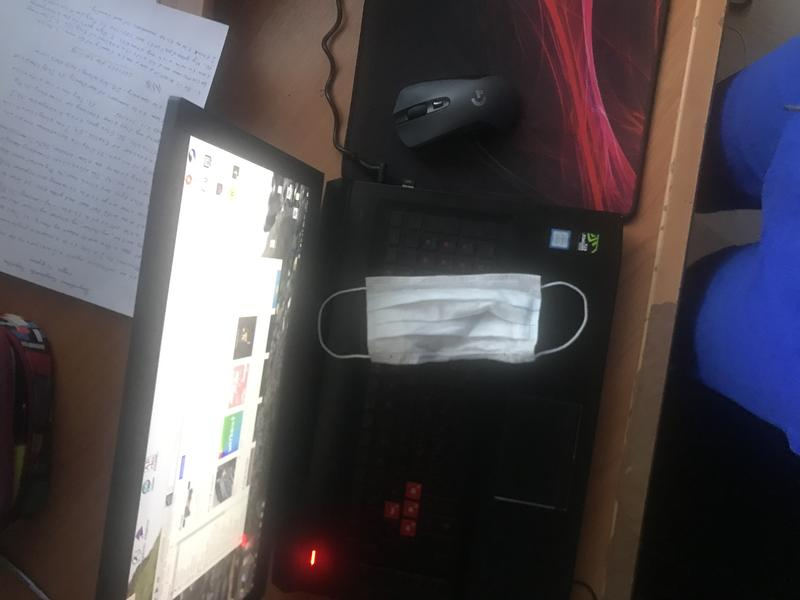medical_mask: (315, 274, 588, 364)
